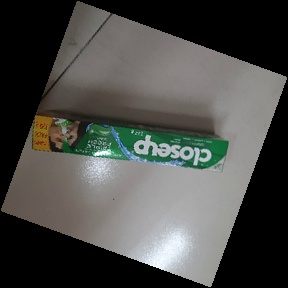CloseUp Xanh: (31, 110, 229, 172)
